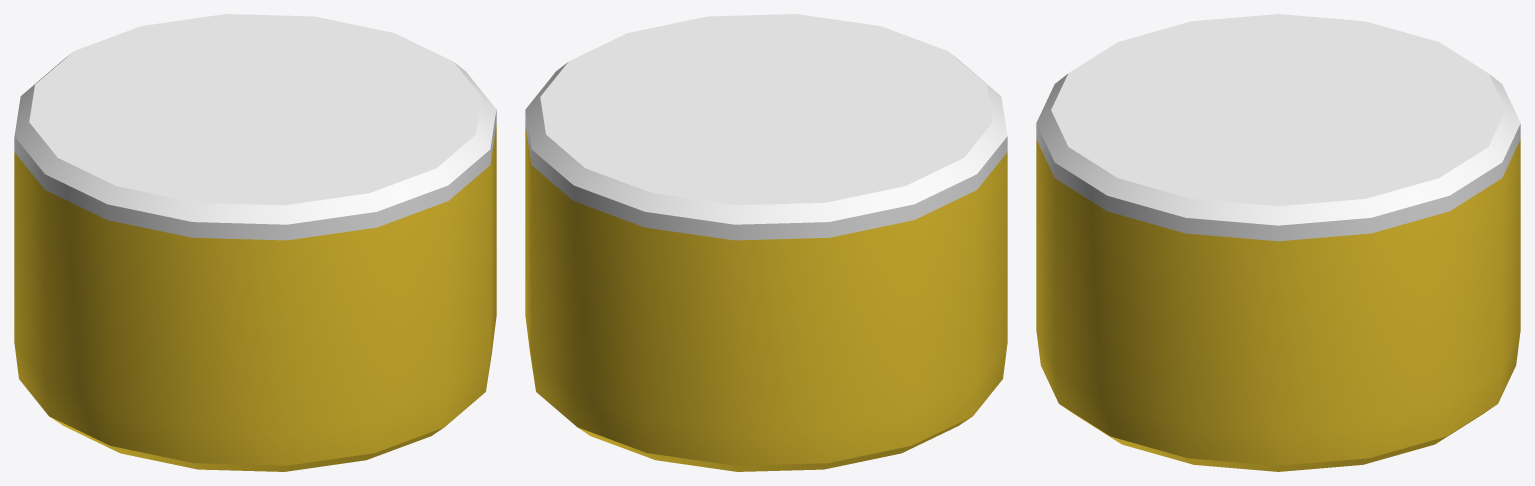
File: Body_Dress_15.fbx
3 views of the same model, side by side, from view 1: azimuth 30°, elevation 25°; view 2: azimuth 150°, elevation 25°; view 3: azimuth 270°, elevation 25° (orthographic).
Parts seen in each view (by area): view 1: Body_Dress_15; view 2: Body_Dress_15; view 3: Body_Dress_15.
Boxes of the visible parts, x1,y1,x2,y2 form: Body_Dress_15: (14,14,496,471); Body_Dress_15: (525,14,1007,471); Body_Dress_15: (1036,14,1520,471).
Bounding box in the file's own units: 100 × 61.13 × 100.
